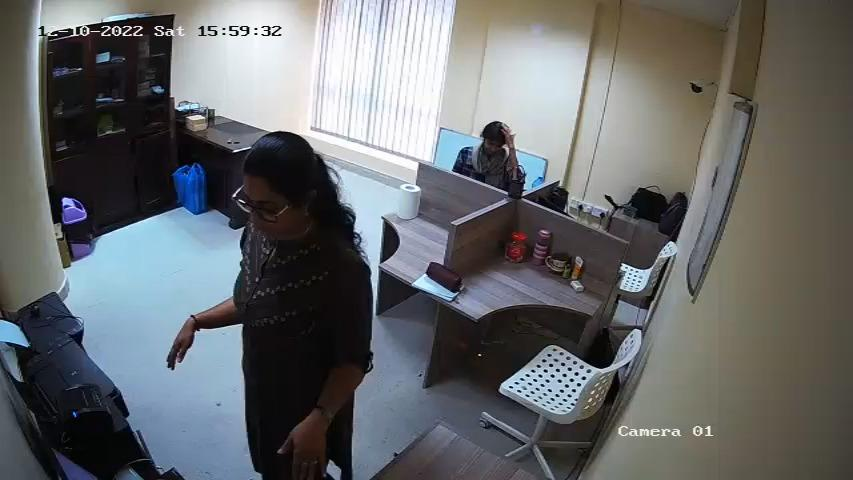no_gloves: (276, 415, 330, 476), (164, 313, 196, 375)
